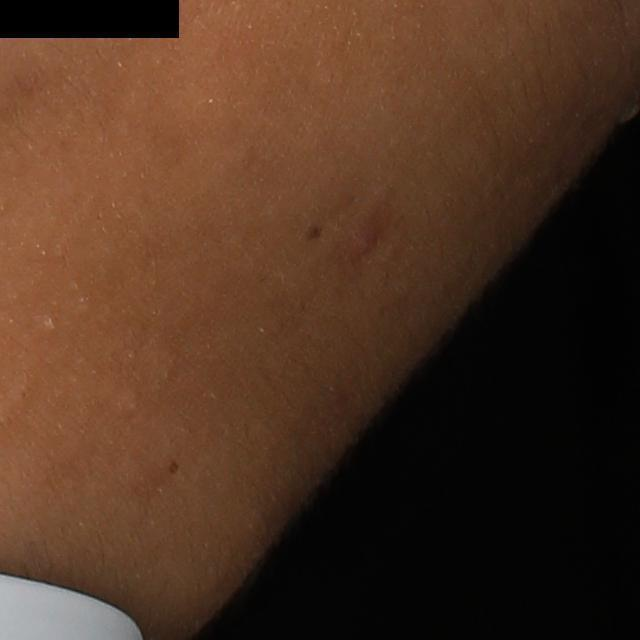comedo: (45, 319, 58, 332)
nevus: (301, 220, 326, 240)
papule: (341, 209, 382, 258)
